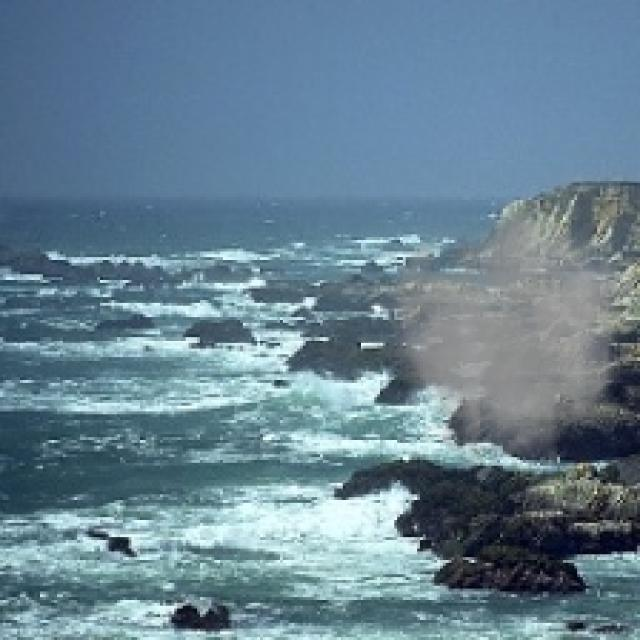smoke: (374, 203, 634, 474)
